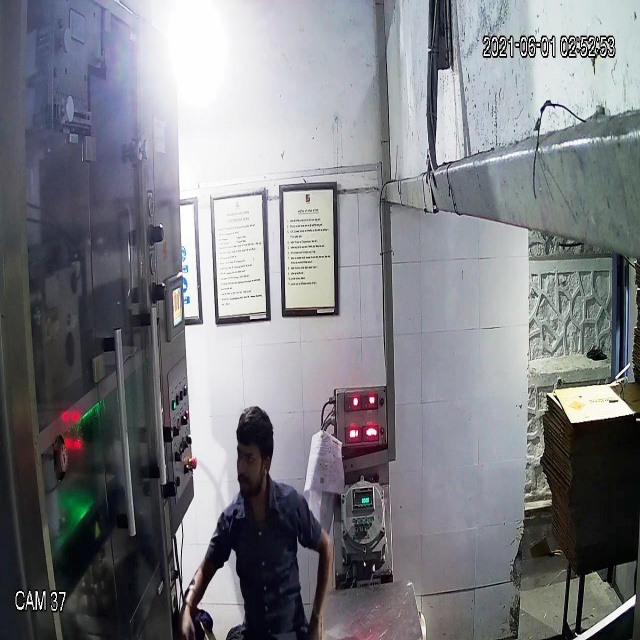Sin_gafas: (233, 438, 274, 474)
